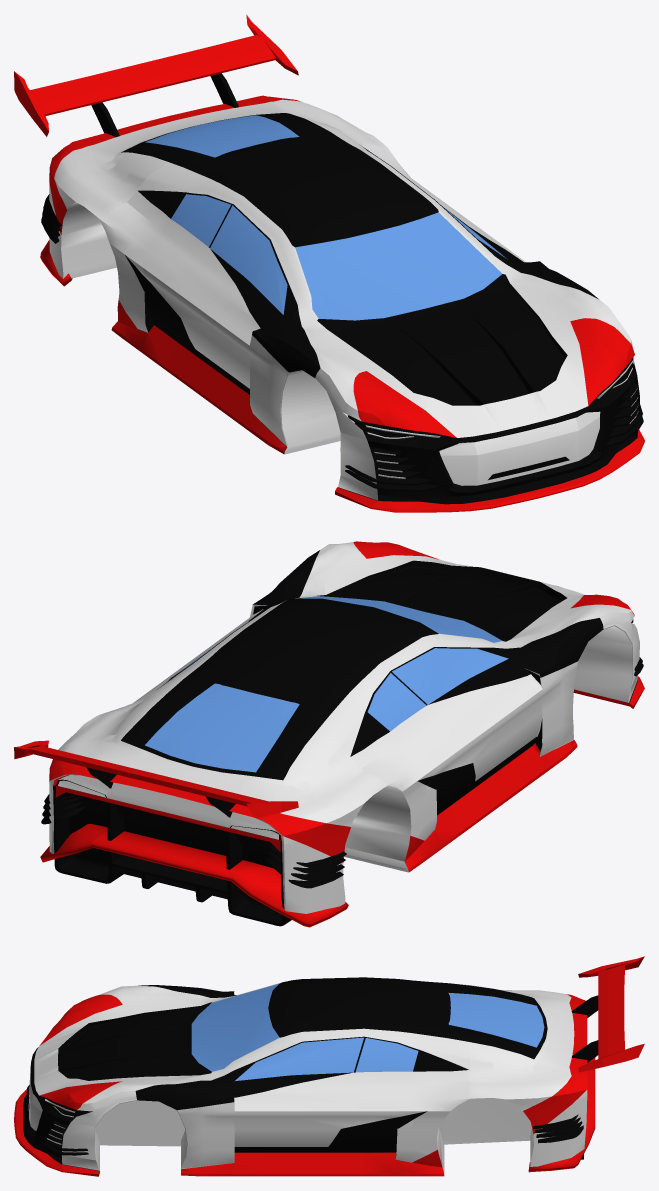
File: audi.fbx
3 views of the same model, one above another, from view 1: azimuth 30°, elevation 25°; view 2: azimuth 150°, elevation 25°; view 3: azimuth 270°, elevation 25° (orthographic). The views are drawn at different scales.
Visible parts, largest first — view 1: Plane; view 2: Plane; view 3: Plane.
Part boxes in pixels (x1=…): Plane: x1=14, y1=14, x2=644, y2=512; Plane: x1=14, y1=541, x2=644, y2=927; Plane: x1=14, y1=956, x2=644, y2=1176.
Bounding box in the file's own units: 129 × 65.21 × 306.
